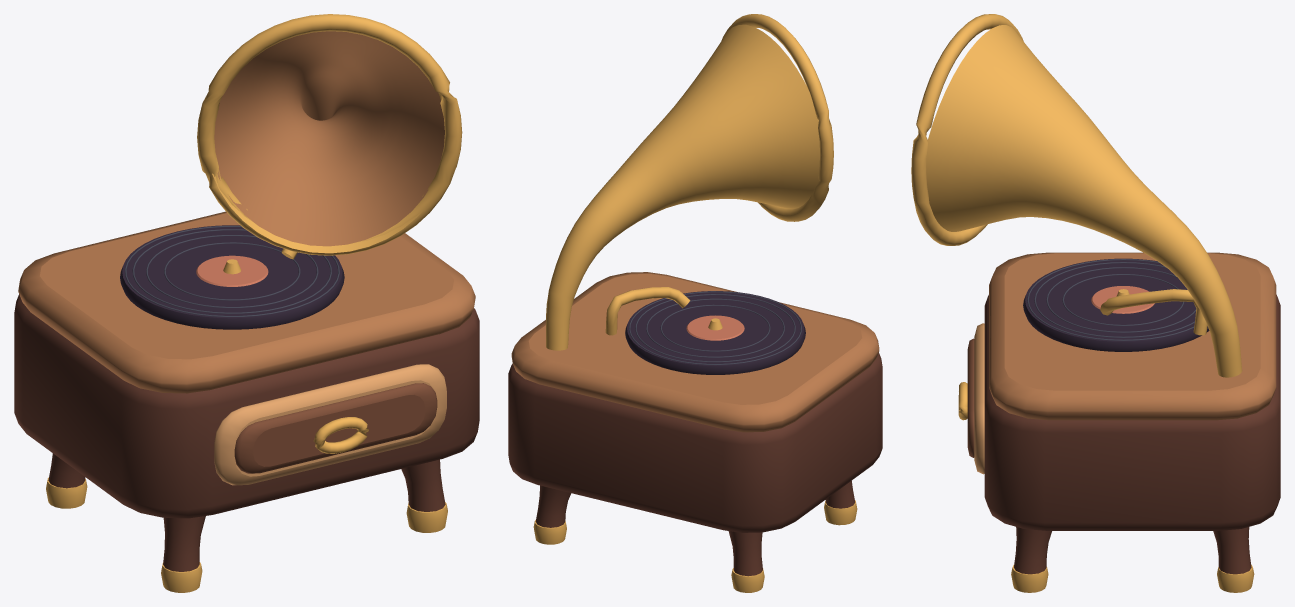
Rendered from atelier_gramophone.glb.
3 views of the same model, side by side, from view 1: azimuth 30°, elevation 25°; view 2: azimuth 150°, elevation 25°; view 3: azimuth 270°, elevation 25° (orthographic). The views are drawn at different scales.
Visible parts, largest first — view 1: Gramófono de latón.001; view 2: Gramófono de latón.001; view 3: Gramófono de latón.001.
Boxes of the visible parts, x1,y1,x2,y2 form: Gramófono de latón.001: (14,14,479,592); Gramófono de latón.001: (508,14,882,592); Gramófono de latón.001: (911,14,1280,592).
Size of the model in its own units: 0.83 by 1.28 by 0.8487.
